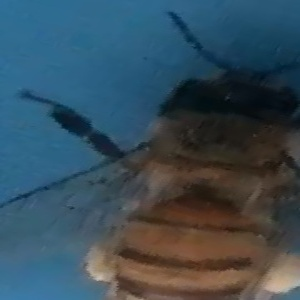bee: (40, 12, 300, 300)
